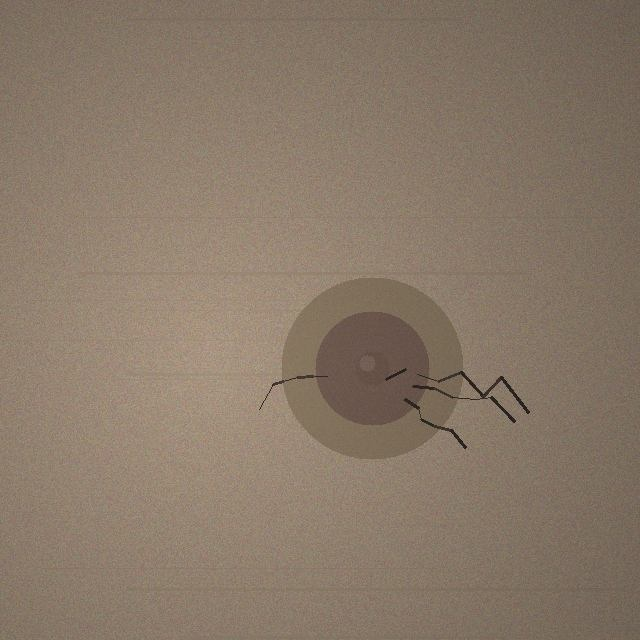crack: (281, 277, 463, 459)
